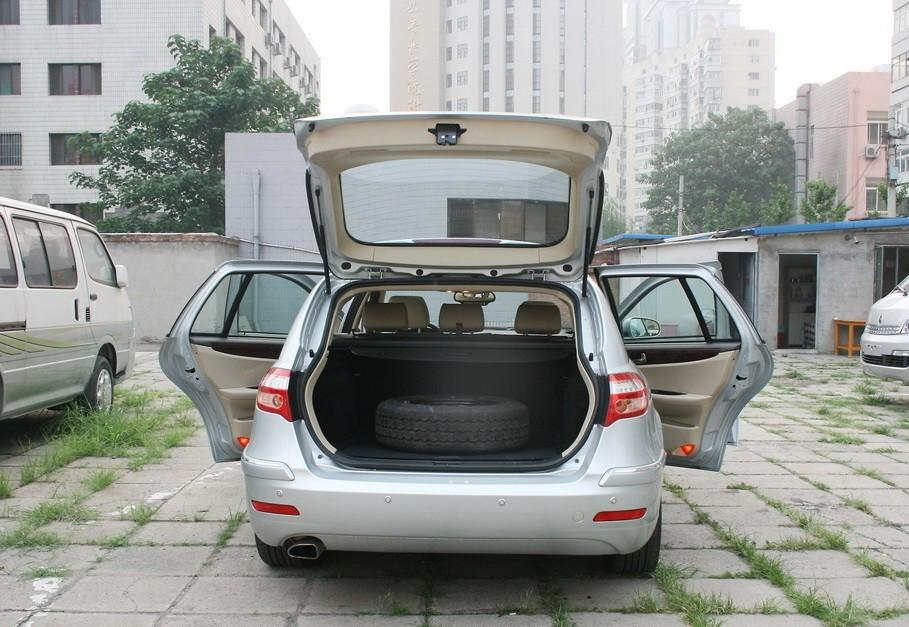Wagon: (158, 110, 775, 577)
